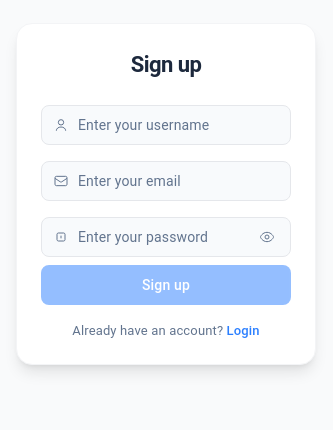
Test: Register page › should show error for duplicate email
Type "Testeur" into the field with placeholder "Enter your username".
click(166, 125); type("Testeur")  # box [41,105,291,145]
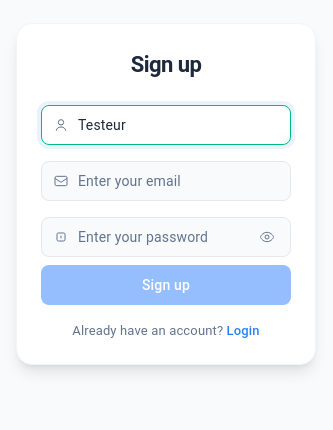
Type "test@eventhub.com" into the field with placeholder "Enter your email".
click(166, 181); type("test@eventhub.com")  # box [41,161,291,201]
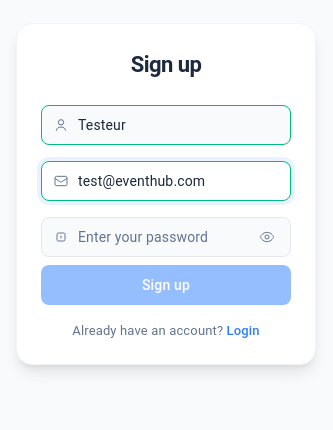
Type "Testeur123@" into the password field with placeholder "Enter your password".
click(166, 237); type("Testeur123@")  # box [41,217,291,257]
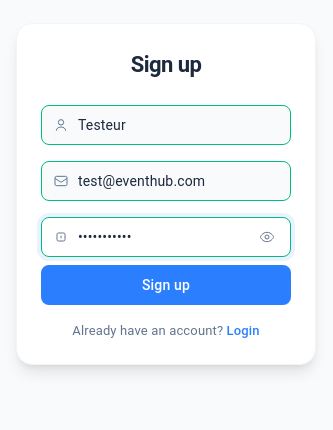
Submit the form with placeholder "Enter your email"
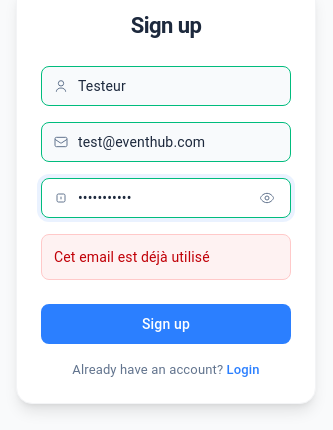
Expected: the text "Cet email est déjà utilisé" is shown, [41,234,291,280]
